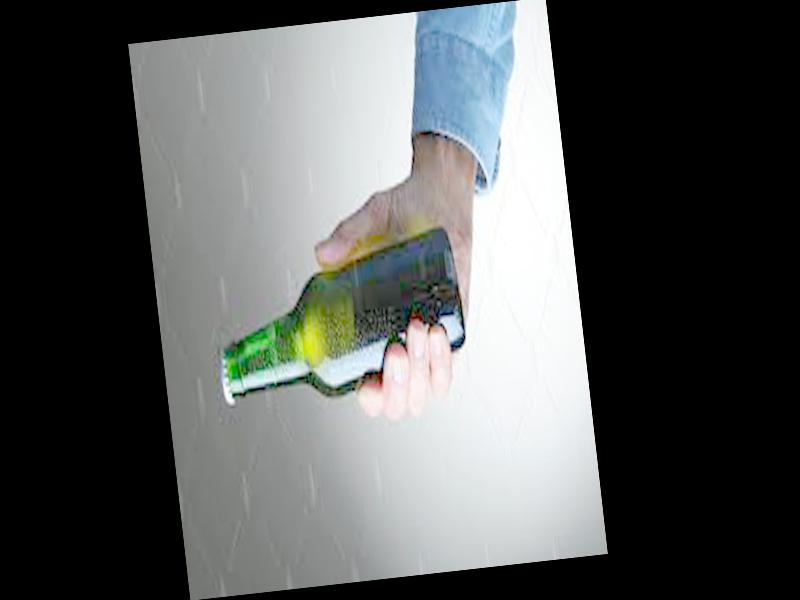Beer: (203, 222, 472, 408)
